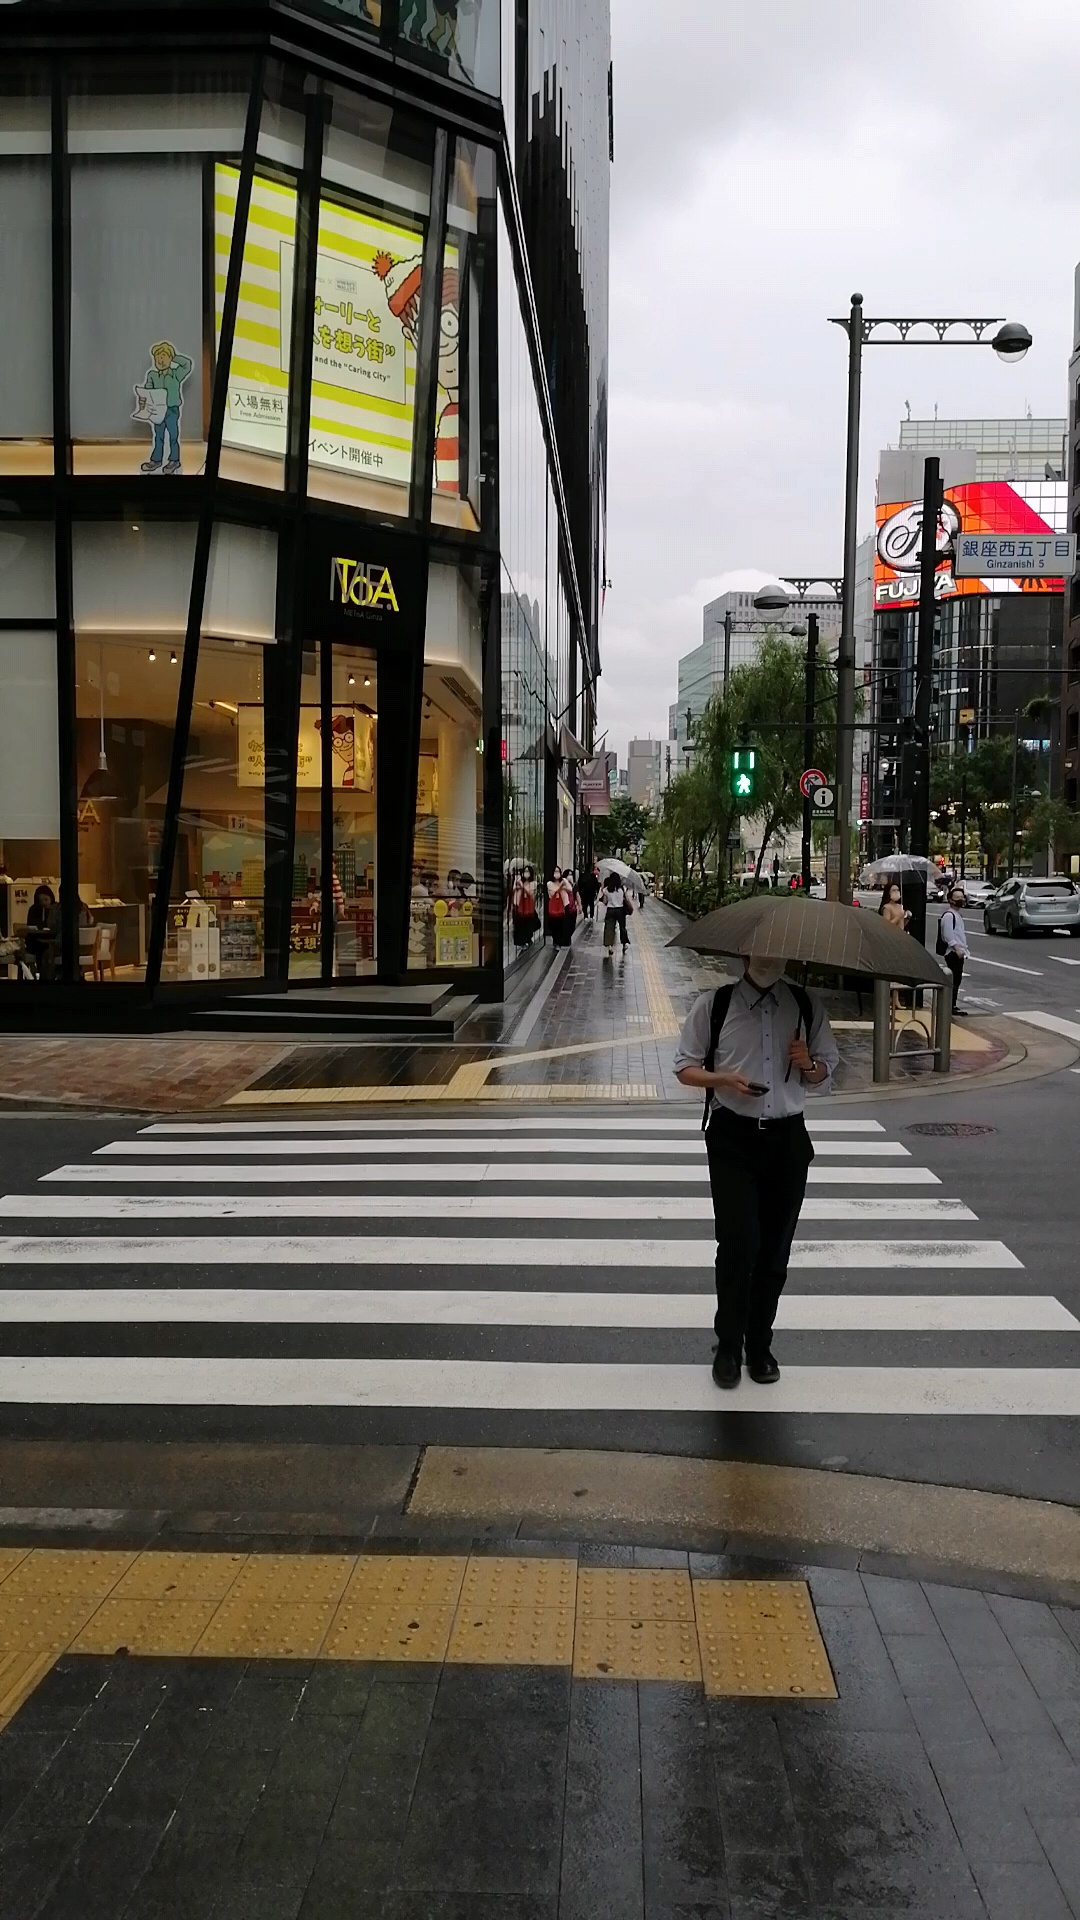green: (727, 745, 760, 799)
